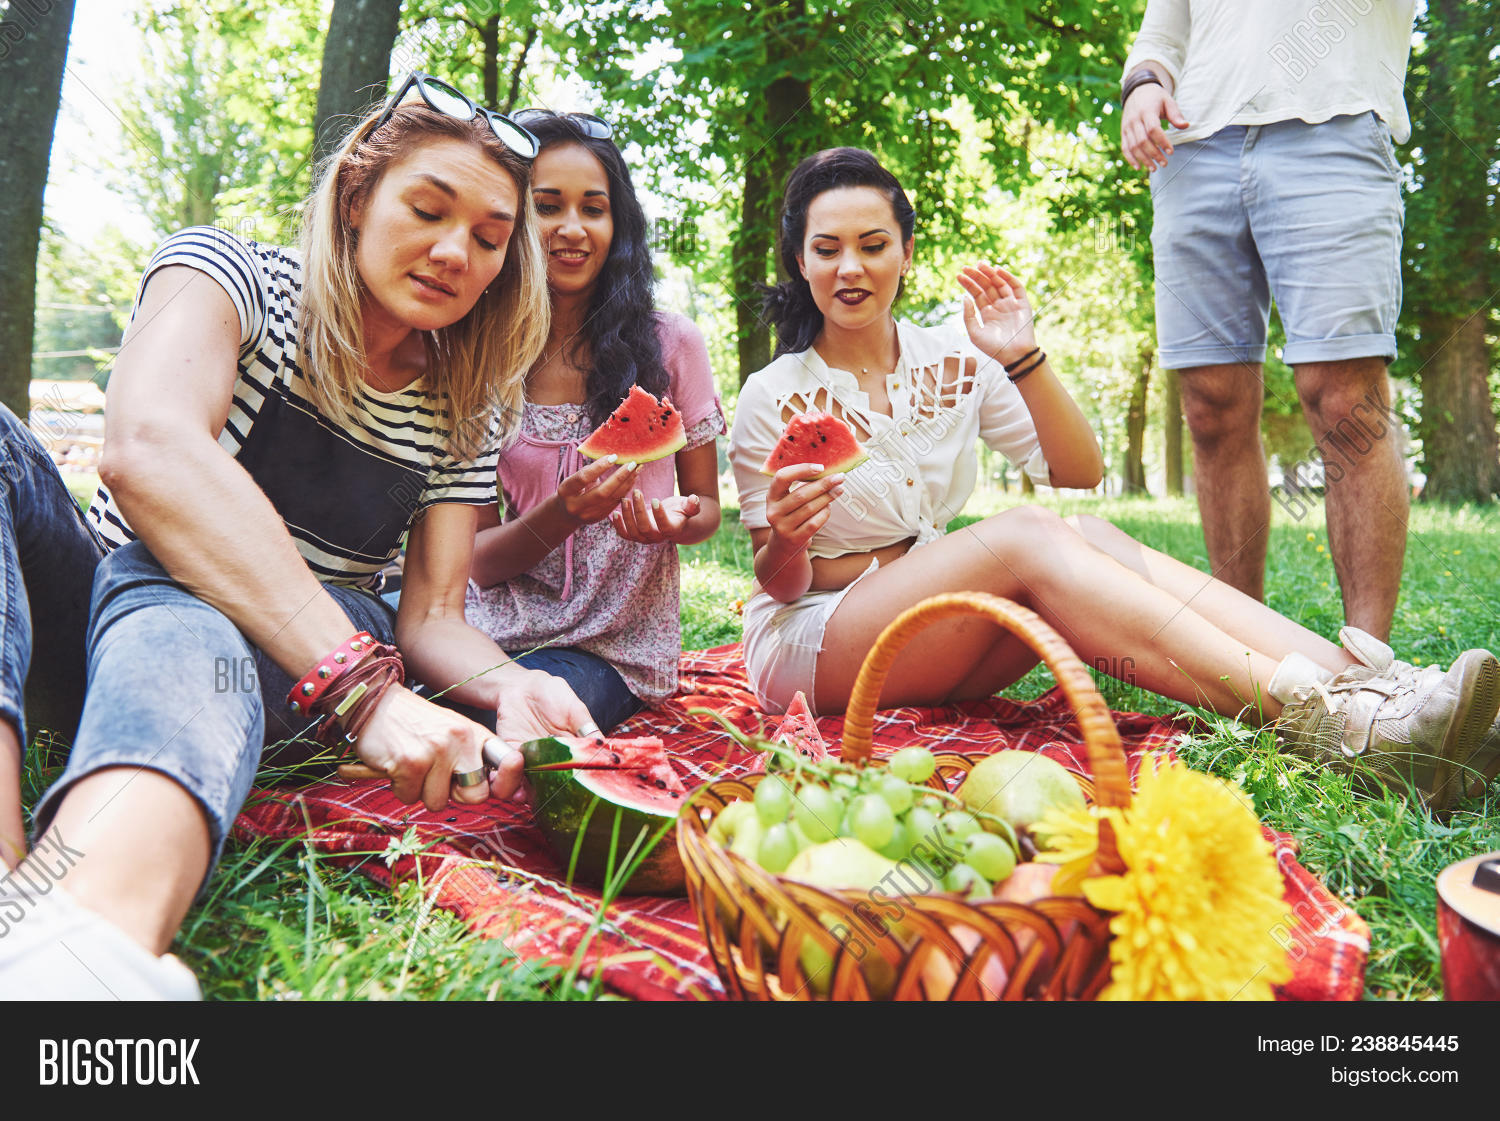Person: (2, 72, 608, 1002), (728, 141, 1500, 822), (473, 104, 729, 735)
